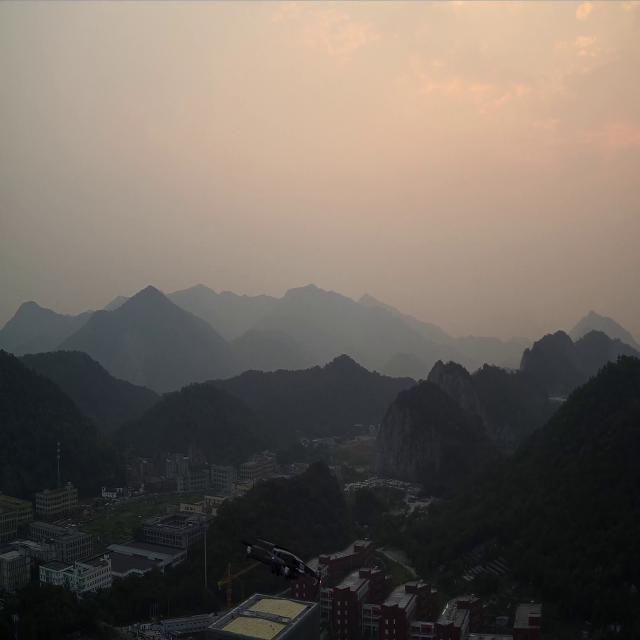UAV: (239, 536, 323, 596)
